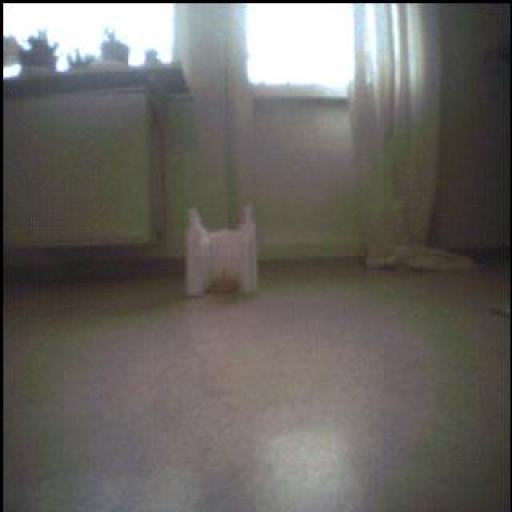Basket: (209, 265, 241, 296)
